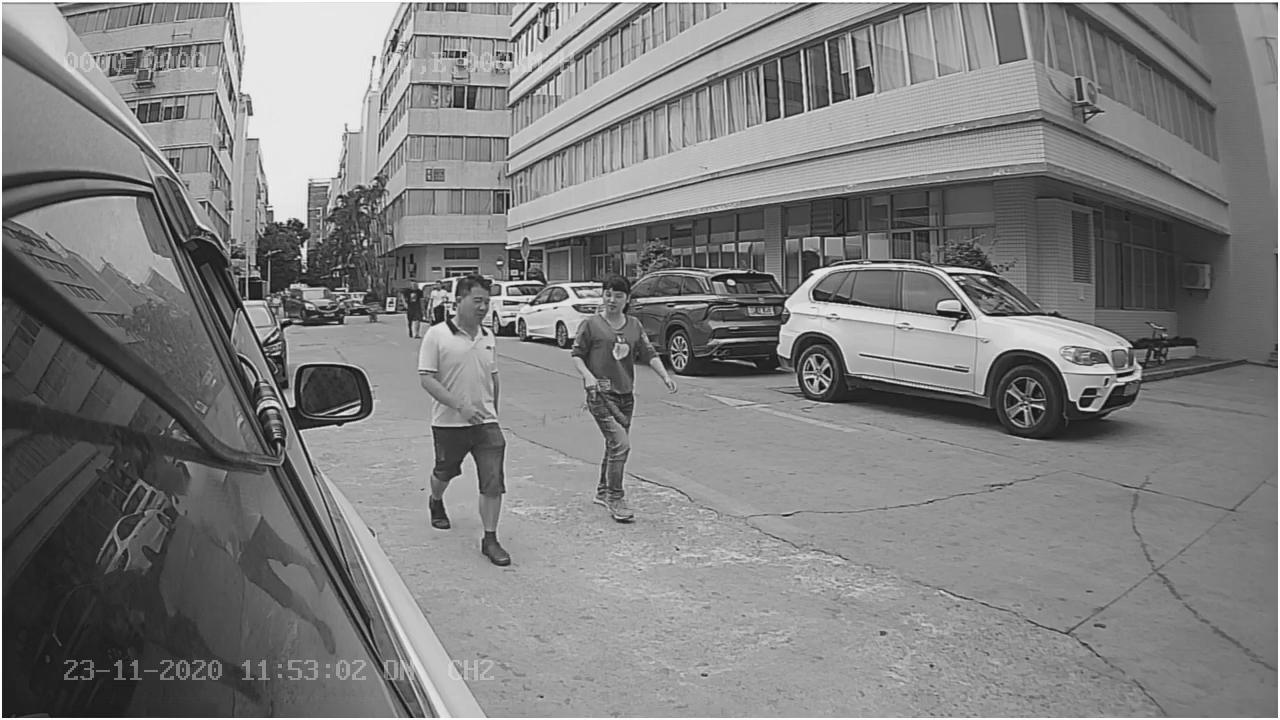person: (412, 276, 515, 548), (569, 275, 661, 516)
